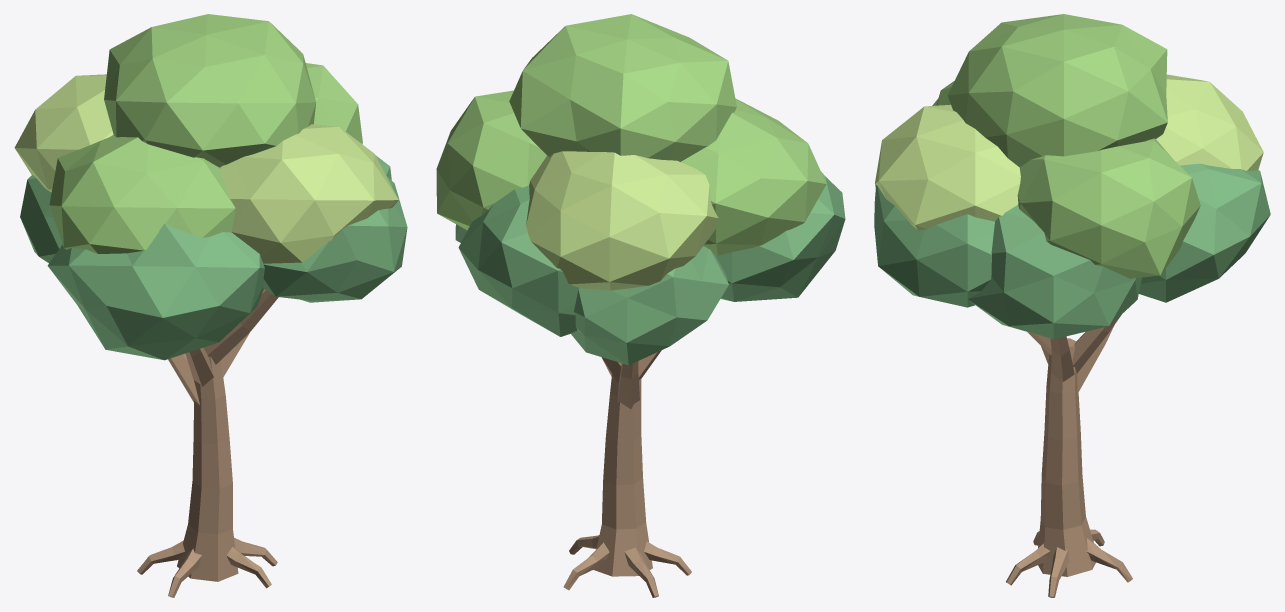
The model's file is arvore_copa_2.fbx.
The picture shows the model from 3 angles, left to right: view 1: azimuth 30°, elevation 25°; view 2: azimuth 150°, elevation 25°; view 3: azimuth 270°, elevation 25°; orthographic projection.
Parts seen in each view (by area): view 1: arvore_copa_2~Copa 9@leaf, arvore_copa_2~Copa 3@leafdark, arvore_copa_2~Copa 7@leaf, arvore_copa_2~Copa 8@leaflight, arvore_copa_2~Copa 4@leafdark, arvore_copa_2~Tronco@bark, arvore_copa_2~Copa 6@leaflight, arvore_copa_2~Copa 5@leaf, arvore_copa_2~Copa 2@leafdark, arvore_copa_2~Galho 4@bark, arvore_copa_2~Galho 3@bark, arvore_copa_2~Galho 2@bark (+3 smaller); view 2: arvore_copa_2~Copa 9@leaf, arvore_copa_2~Copa 6@leaflight, arvore_copa_2~Copa 7@leaf, arvore_copa_2~Copa 2@leafdark, arvore_copa_2~Copa 5@leaf, arvore_copa_2~Copa 1@leafdark, arvore_copa_2~Copa 3@leafdark, arvore_copa_2~Tronco@bark, arvore_copa_2~Galho 2@bark, arvore_copa_2~Raiz 1@bark, arvore_copa_2~Raiz 2@bark, arvore_copa_2~Raiz 3@bark; view 3: arvore_copa_2~Copa 9@leaf, arvore_copa_2~Copa 5@leaf, arvore_copa_2~Copa 8@leaflight, arvore_copa_2~Copa 0@leafdark, arvore_copa_2~Copa 1@leafdark, arvore_copa_2~Copa 4@leafdark, arvore_copa_2~Tronco@bark, arvore_copa_2~Copa 6@leaflight, arvore_copa_2~Galho 1@bark, arvore_copa_2~Galho 0@bark, arvore_copa_2~Raiz 1@bark, arvore_copa_2~Raiz 0@bark (+1 smaller).
Part boxes in pixels (bbox=[...]): arvore_copa_2~Copa 9@leaf: bbox=[104, 14, 316, 167]; arvore_copa_2~Copa 3@leafdark: bbox=[47, 223, 264, 360]; arvore_copa_2~Copa 7@leaf: bbox=[49, 135, 235, 253]; arvore_copa_2~Copa 8@leaflight: bbox=[219, 124, 398, 263]; arvore_copa_2~Copa 4@leafdark: bbox=[263, 175, 407, 302]; arvore_copa_2~Tronco@bark: bbox=[177, 356, 238, 581]; arvore_copa_2~Copa 6@leaflight: bbox=[14, 74, 113, 192]; arvore_copa_2~Copa 5@leaf: bbox=[305, 63, 362, 144]; arvore_copa_2~Copa 2@leafdark: bbox=[20, 175, 62, 263]; arvore_copa_2~Galho 4@bark: bbox=[203, 290, 278, 364]; arvore_copa_2~Galho 3@bark: bbox=[185, 347, 213, 386]; arvore_copa_2~Galho 2@bark: bbox=[168, 353, 199, 404]; arvore_copa_2~Copa 9@leaf: bbox=[509, 14, 736, 161]; arvore_copa_2~Copa 6@leaflight: bbox=[526, 151, 718, 290]; arvore_copa_2~Copa 7@leaf: bbox=[681, 98, 826, 255]; arvore_copa_2~Copa 2@leafdark: bbox=[571, 246, 728, 365]; arvore_copa_2~Copa 5@leaf: bbox=[436, 90, 546, 230]; arvore_copa_2~Copa 1@leafdark: bbox=[458, 185, 579, 336]; arvore_copa_2~Copa 3@leafdark: bbox=[716, 171, 845, 301]; arvore_copa_2~Tronco@bark: bbox=[593, 374, 652, 576]; arvore_copa_2~Galho 2@bark: bbox=[617, 361, 639, 408]; arvore_copa_2~Raiz 1@bark: bbox=[563, 542, 609, 590]; arvore_copa_2~Raiz 2@bark: bbox=[624, 547, 658, 597]; arvore_copa_2~Raiz 3@bark: bbox=[644, 541, 691, 575]; arvore_copa_2~Copa 9@leaf: bbox=[947, 14, 1167, 167]; arvore_copa_2~Copa 5@leaf: bbox=[1017, 138, 1200, 278]; arvore_copa_2~Copa 8@leaflight: bbox=[875, 104, 1020, 229]; arvore_copa_2~Copa 0@leafdark: bbox=[968, 205, 1141, 339]; arvore_copa_2~Copa 1@leafdark: bbox=[1139, 163, 1270, 302]; arvore_copa_2~Copa 4@leafdark: bbox=[874, 185, 994, 307]; arvore_copa_2~Tronco@bark: bbox=[1038, 338, 1095, 576]; arvore_copa_2~Copa 6@leaflight: bbox=[1156, 74, 1263, 170]; arvore_copa_2~Galho 1@bark: bbox=[1072, 314, 1121, 373]; arvore_copa_2~Galho 0@bark: bbox=[1050, 336, 1074, 381]; arvore_copa_2~Raiz 1@bark: bbox=[1086, 538, 1132, 582]; arvore_copa_2~Raiz 0@bark: bbox=[1048, 547, 1068, 597].
Bounding box in the file's own units: 9.74 × 14.46 × 9.64.
